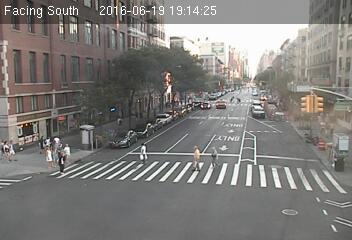neg: (312, 192, 331, 217), (276, 122, 295, 147), (139, 7, 157, 32), (33, 75, 51, 99), (182, 11, 199, 34), (22, 195, 39, 217), (233, 124, 249, 146), (99, 151, 115, 172), (229, 12, 244, 32), (76, 194, 90, 212), (283, 14, 297, 32), (105, 54, 118, 72), (198, 90, 211, 107), (262, 38, 274, 54), (268, 149, 279, 165), (200, 203, 212, 217), (190, 115, 202, 129), (287, 83, 298, 98), (320, 47, 331, 62), (248, 200, 259, 215), (290, 196, 301, 211), (31, 27, 42, 42), (62, 58, 72, 73), (65, 9, 75, 22), (93, 83, 102, 95), (132, 188, 141, 200), (10, 66, 19, 78), (115, 98, 124, 109), (160, 196, 168, 208), (173, 65, 179, 73), (149, 82, 153, 88), (256, 60, 260, 65), (219, 61, 223, 65)
pos: (183, 141, 207, 173), (206, 144, 226, 169), (51, 148, 70, 172), (135, 140, 153, 164), (316, 118, 330, 136), (40, 147, 52, 164), (54, 132, 65, 147), (35, 134, 45, 149), (43, 134, 54, 147), (114, 116, 124, 129), (235, 95, 244, 106), (228, 95, 236, 105)
